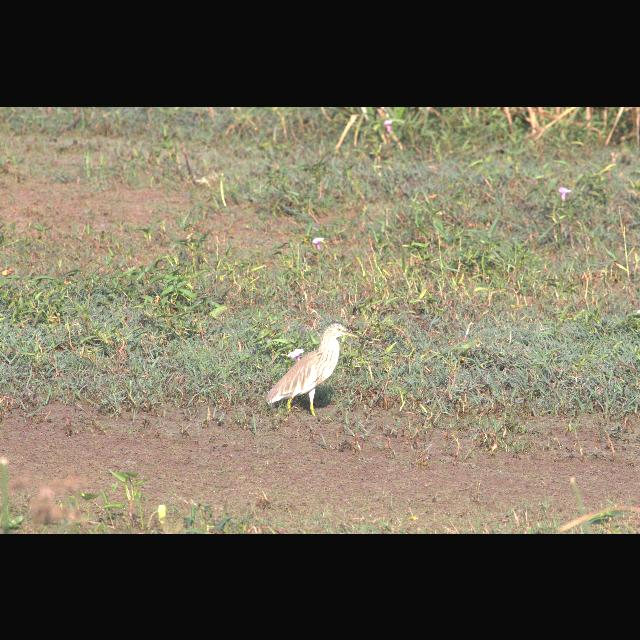heron: (260, 321, 366, 423)
